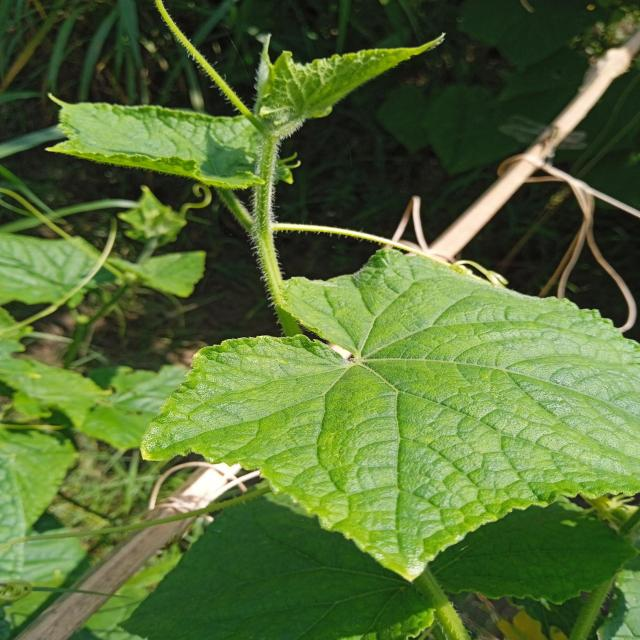cucumber_healthy: (138, 233, 640, 584), (78, 488, 632, 640), (40, 72, 268, 197), (258, 18, 454, 126)
